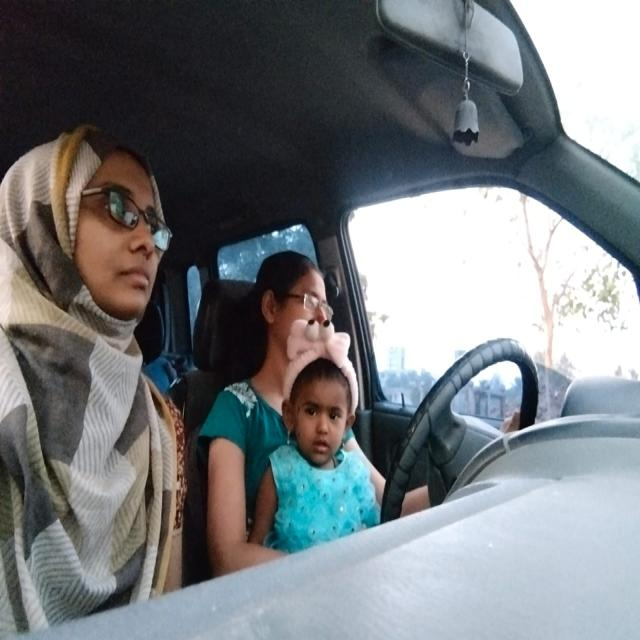child: (270, 336, 373, 474)
person: (36, 95, 182, 350), (246, 232, 350, 333)
